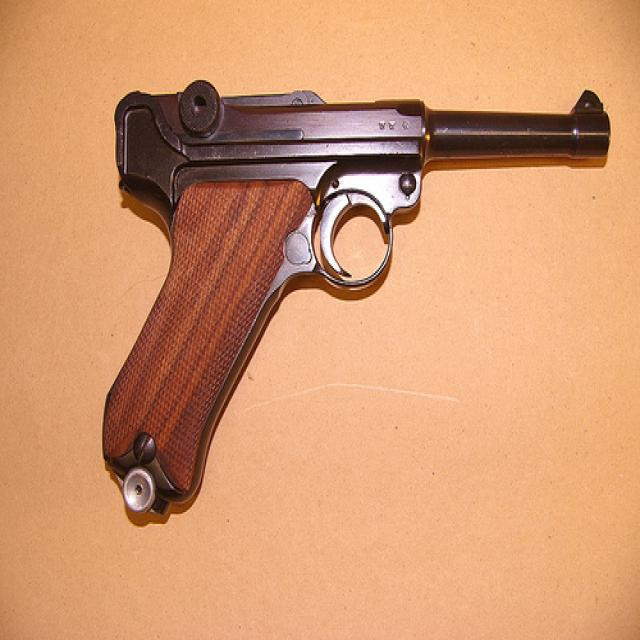gun: (99, 77, 610, 512)
